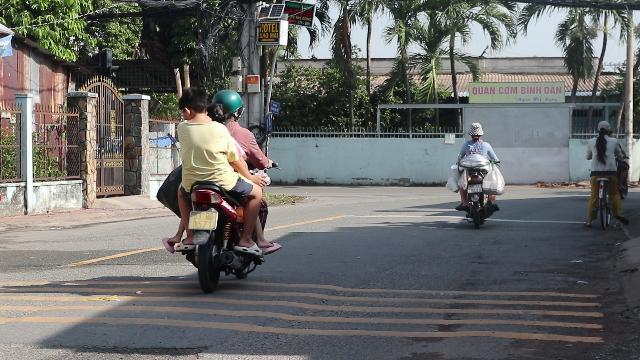helmet: (210, 88, 244, 124)
licenseplate: (188, 211, 216, 229), (467, 184, 481, 192)
motorcyclist: (154, 87, 276, 288), (448, 122, 504, 226)
nohelmet: (177, 86, 209, 120), (468, 122, 484, 140)
